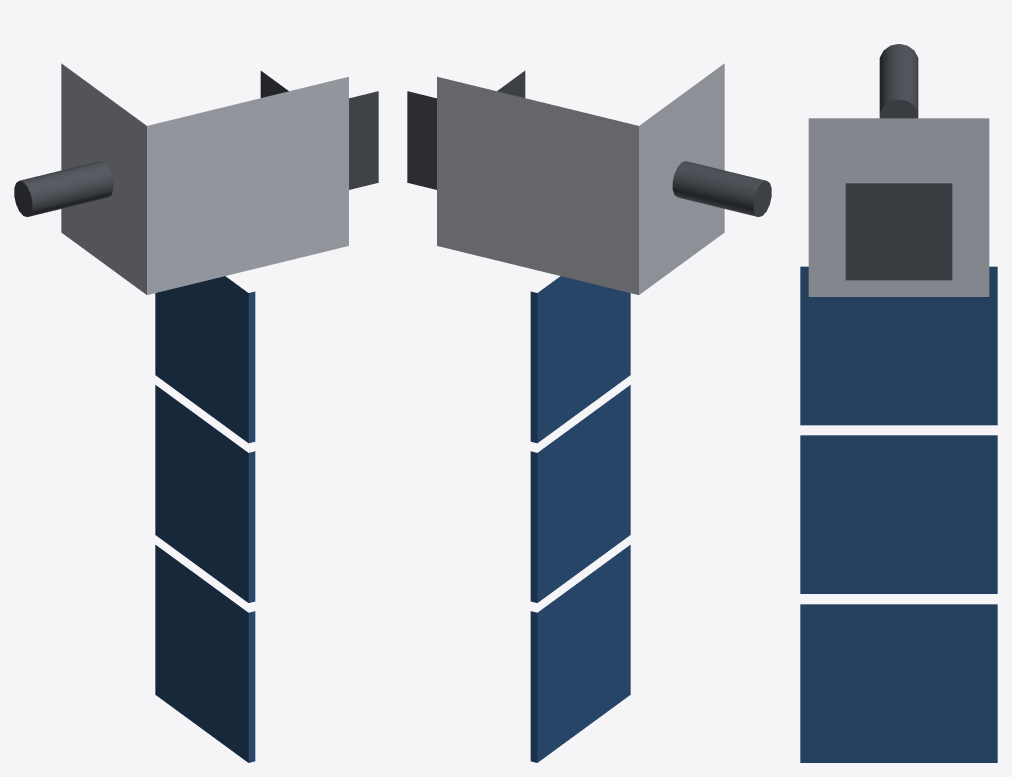
3 views of the same model, side by side, from view 1: azimuth 30°, elevation 25°; view 2: azimuth 150°, elevation 25°; view 3: azimuth 270°, elevation 25° (orthographic). The views are drawn at different scales.
Bounding box in the file's own units: 4.9 × 9.33 × 2.4.
